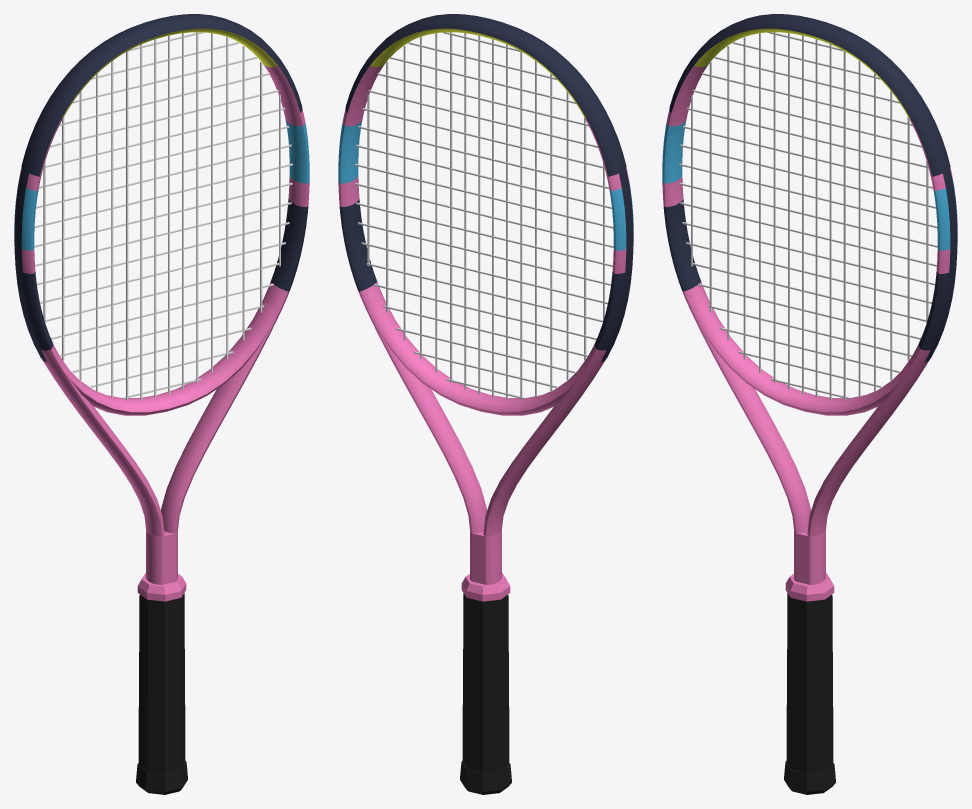
The model's file is babolat-pure-aero-rafa-origin-2023.glb.
3 renders of one model, left to right at view 1: azimuth 30°, elevation 25°; view 2: azimuth 150°, elevation 25°; view 3: azimuth 330°, elevation 25°, orthographic.
Parts seen in each view (by area): view 1: frame, strings_mains, strings_crosses, grip, bumper, grommets, butt_cap, collar; view 2: frame, strings_mains, strings_crosses, grip, bumper, grommets, butt_cap, collar; view 3: frame, strings_mains, strings_crosses, grip, bumper, grommets, butt_cap, collar.
Part boxes in pixels (x1=…): frame: x1=14, y1=28, x2=309, y2=584; strings_mains: x1=43, y1=32, x2=280, y2=399; strings_crosses: x1=34, y1=32, x2=292, y2=399; grip: x1=138, y1=593, x2=185, y2=772; bumper: x1=21, y1=14, x2=302, y2=176; grommets: x1=14, y1=168, x2=47, y2=362; butt_cap: x1=136, y1=761, x2=187, y2=794; collar: x1=137, y1=573, x2=186, y2=601; frame: x1=338, y1=28, x2=633, y2=584; strings_mains: x1=367, y1=32, x2=604, y2=399; strings_crosses: x1=354, y1=32, x2=613, y2=399; grip: x1=462, y1=593, x2=509, y2=772; bumper: x1=345, y1=14, x2=626, y2=176; grommets: x1=600, y1=168, x2=633, y2=362; butt_cap: x1=460, y1=761, x2=511, y2=794; collar: x1=461, y1=573, x2=510, y2=601; frame: x1=662, y1=28, x2=957, y2=584; strings_mains: x1=691, y1=32, x2=928, y2=399; strings_crosses: x1=679, y1=32, x2=937, y2=399; grip: x1=786, y1=593, x2=833, y2=772; bumper: x1=669, y1=14, x2=950, y2=176; grommets: x1=924, y1=168, x2=957, y2=362; butt_cap: x1=784, y1=761, x2=835, y2=794; collar: x1=785, y1=573, x2=834, y2=601.
Bounding box in the file's own units: 0.2718 × 0.6861 × 0.0396.
